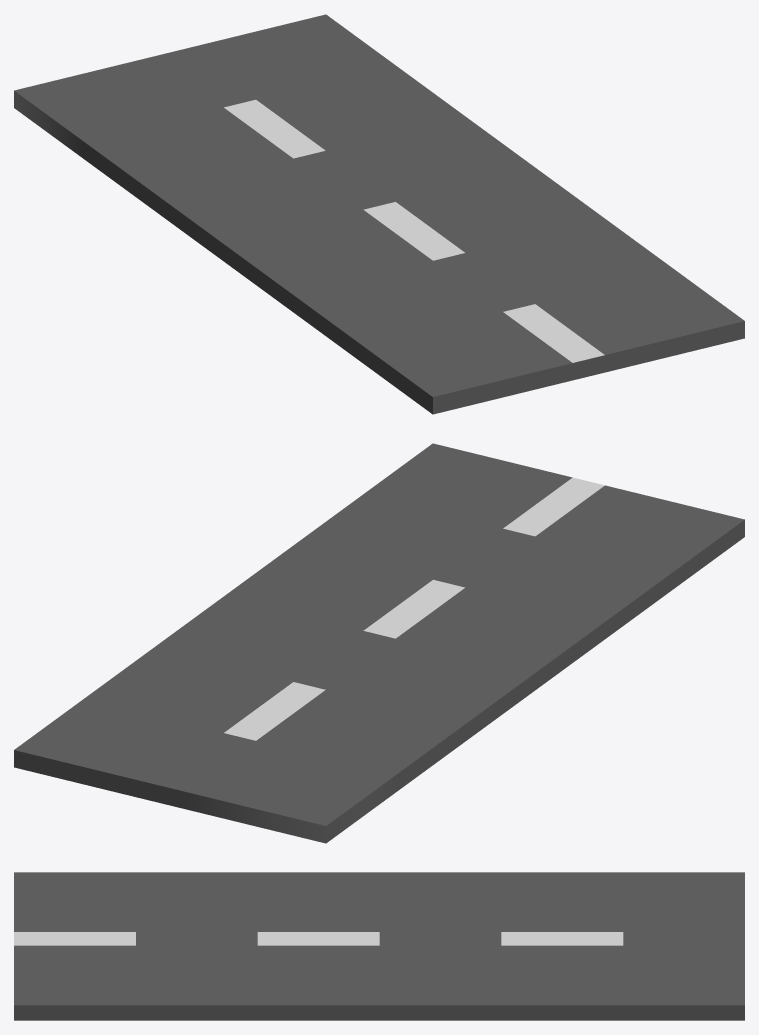
The model's file is RoadStraight.fbx.
3 views of the same model, one above another, from view 1: azimuth 30°, elevation 25°; view 2: azimuth 150°, elevation 25°; view 3: azimuth 270°, elevation 25° (orthographic). The views are drawn at different scales.
Visible parts, largest first — view 1: StraightRoad; view 2: StraightRoad; view 3: StraightRoad.
Boxes of the visible parts, bbox=[...] form: StraightRoad: bbox=[14, 14, 744, 414]; StraightRoad: bbox=[14, 443, 744, 843]; StraightRoad: bbox=[14, 872, 744, 1020].
Bounding box in the file's own units: 15.05 × 0.8039 × 34.98.
